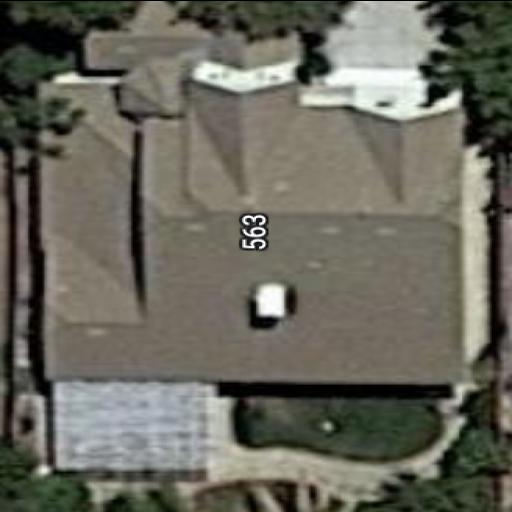Slope-Roof: (45, 53, 461, 383)
